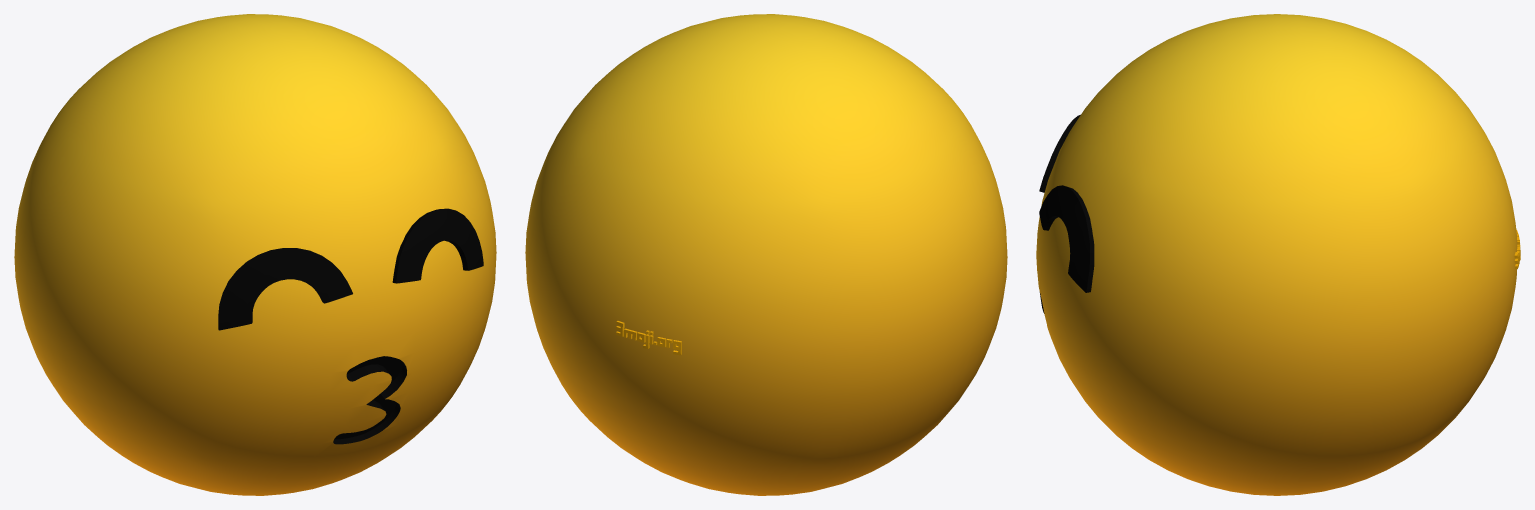
The model's file is kissing_face_with_smiling_eyes.gltf.
The picture shows the model from 3 angles, left to right: view 1: azimuth 30°, elevation 25°; view 2: azimuth 150°, elevation 25°; view 3: azimuth 270°, elevation 25°; orthographic projection.
Parts seen in each view (by area): view 1: Kissing Face with Smiling Eyes; view 2: Kissing Face with Smiling Eyes; view 3: Kissing Face with Smiling Eyes.
Part boxes in pixels (box(x1,y1,x2,y2)): Kissing Face with Smiling Eyes: box(14, 14, 496, 495); Kissing Face with Smiling Eyes: box(525, 14, 1007, 495); Kissing Face with Smiling Eyes: box(1036, 14, 1520, 495).
Size of the model in its own units: 1.69 by 1.69 by 1.7.
Materials: 1 (1 with a texture image).
